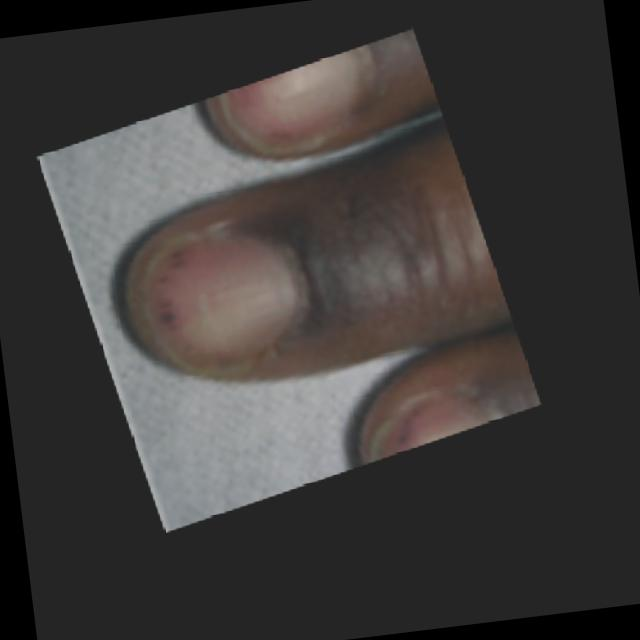Nail: (145, 236, 295, 371), (229, 49, 357, 147), (394, 396, 479, 450)
